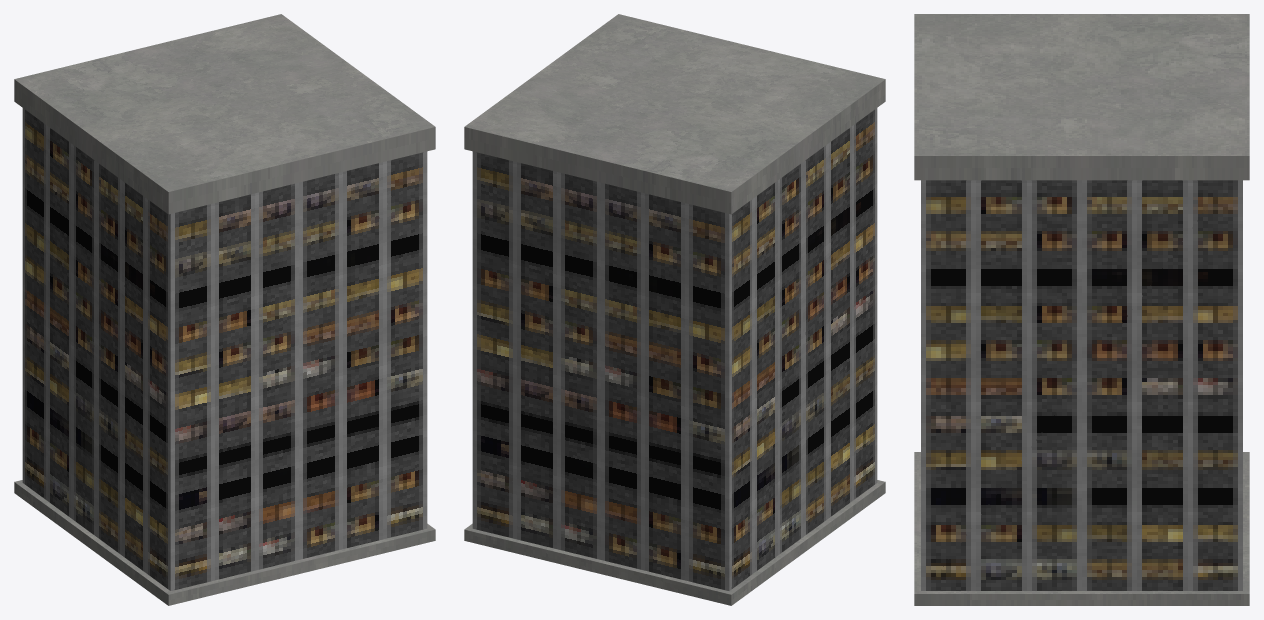
The model's file is building_01.2.glb.
The picture shows the model from 3 angles, left to right: view 1: azimuth 30°, elevation 25°; view 2: azimuth 150°, elevation 25°; view 3: azimuth 270°, elevation 25°; orthographic projection. The views are drawn at different scales.
Visible parts, largest first — view 1: building_01_22; view 2: building_01_22; view 3: building_01_22.
Part boxes in pixels (<box>): building_01_22: <box>14,14,435,605</box>; building_01_22: <box>464,14,885,605</box>; building_01_22: <box>914,14,1249,605</box>.
Bounding box in the file's own units: 25 × 37 × 25.
Materials: 1 (1 with a texture image).
